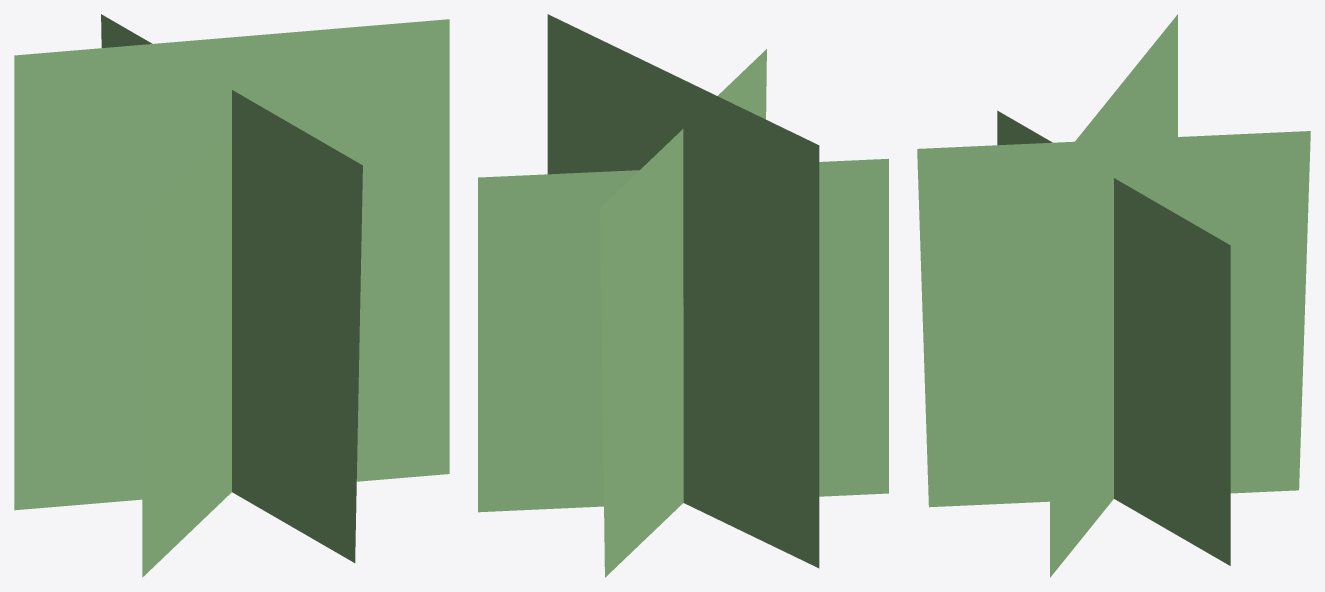
Rendered from Grass_V1.fbx.
The picture shows the model from 3 angles, left to right: view 1: azimuth 30°, elevation 25°; view 2: azimuth 150°, elevation 25°; view 3: azimuth 270°, elevation 25°; orthographic projection. The views are drawn at different scales.
Visible parts, largest first — view 1: Grass_1; view 2: Grass_1; view 3: Grass_1.
Part boxes in pixels (x1,y1,x2,y2): Grass_1: [14, 14, 449, 577]; Grass_1: [478, 14, 888, 577]; Grass_1: [917, 14, 1310, 577].
Bounding box in the file's own units: 362 × 432 × 380.
